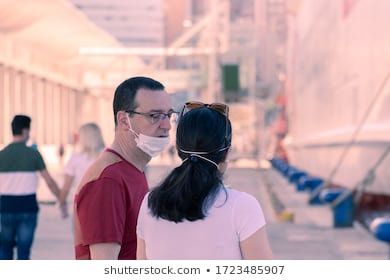mask_weared_incorrect: (130, 101, 174, 155)
